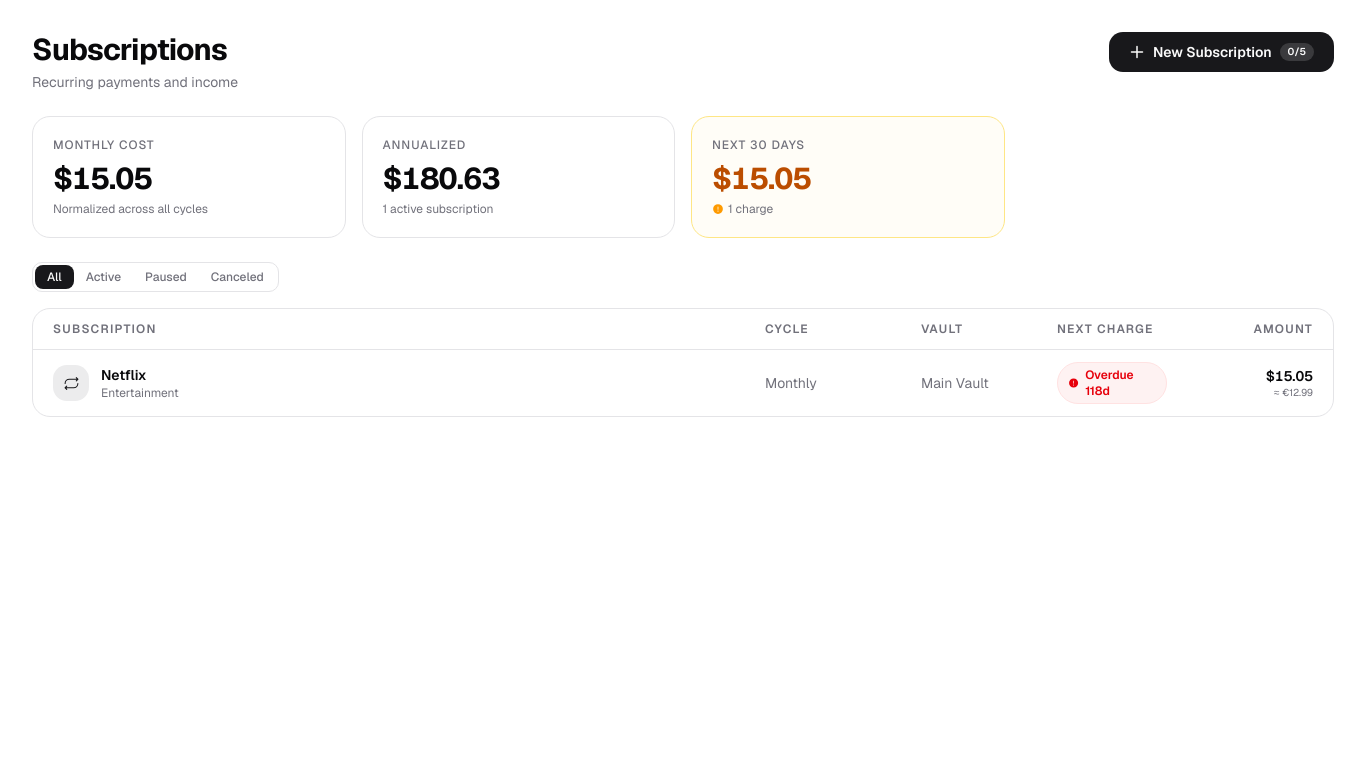
Test: SubscriptionsPage › opens the create modal from the New Subscription button
Expected: the text "Netflix" is shown, [101,365,147,385]
Click the button "New Subscription 0/5": (1222, 52) [1109,32,1334,72]
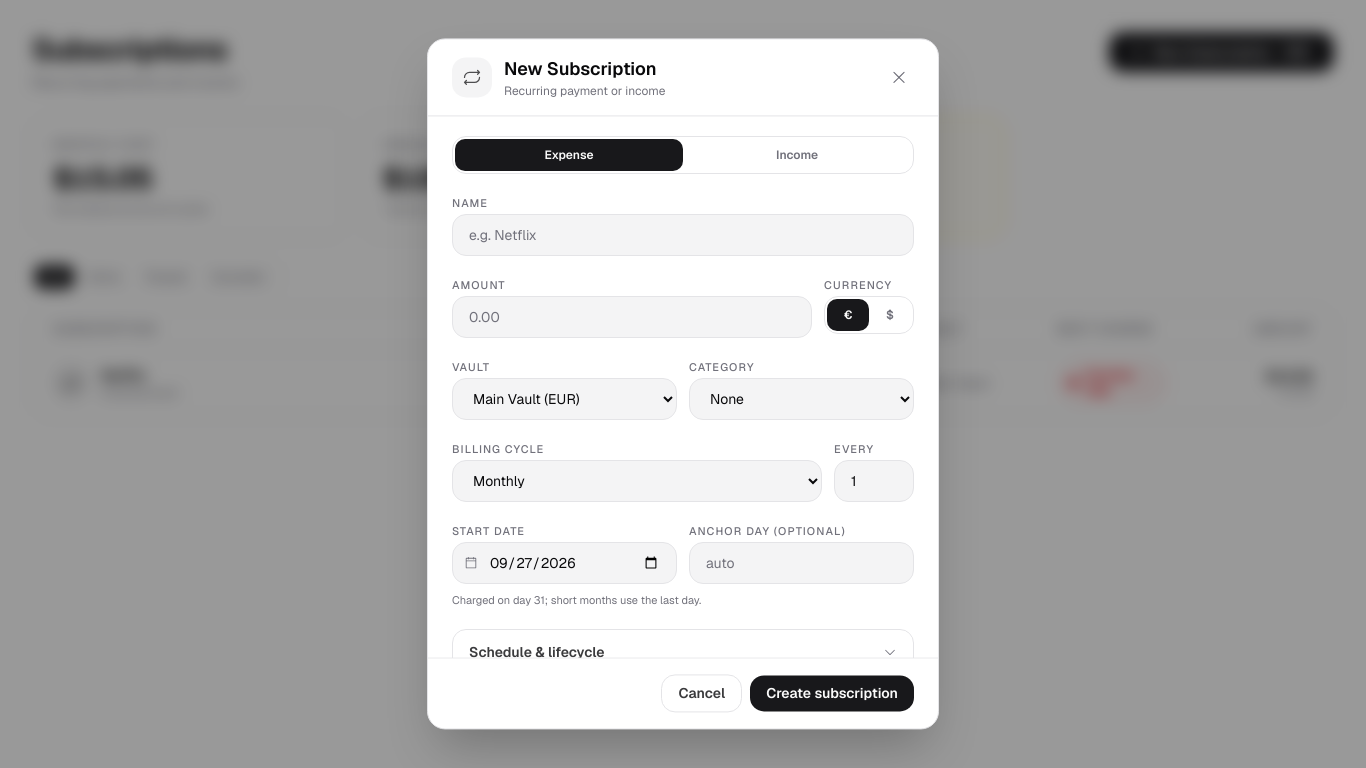
Expected: the heading "New Subscription" is shown, [504,55,665,83]
